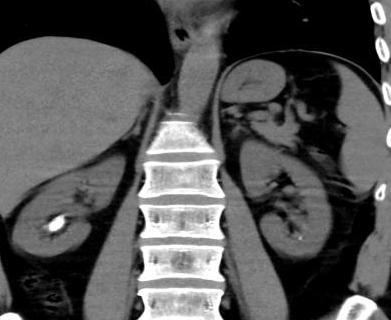Tas_Var: (44, 212, 68, 235), (298, 234, 305, 242)
